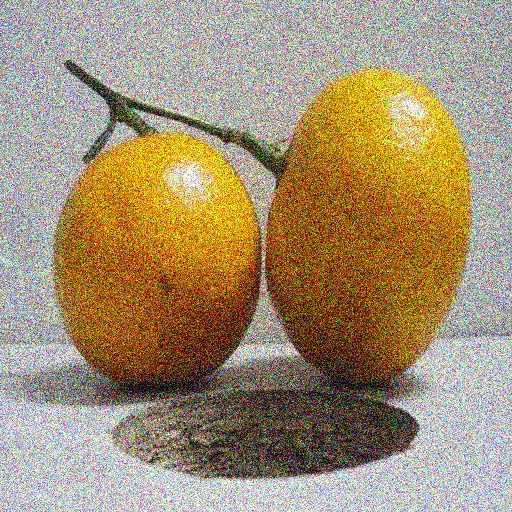fruit: (126, 124, 394, 460), (85, 162, 369, 478), (437, 108, 497, 415), (438, 102, 498, 408), (246, 291, 247, 293)
